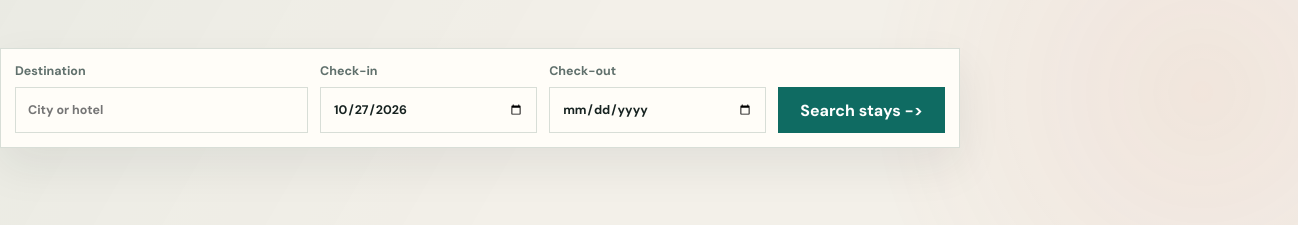
Test: SearchForm › requires destination and check-out
Click the button "Search stays ->". click: coordinates (862, 110)
box: [778,87,945,133]
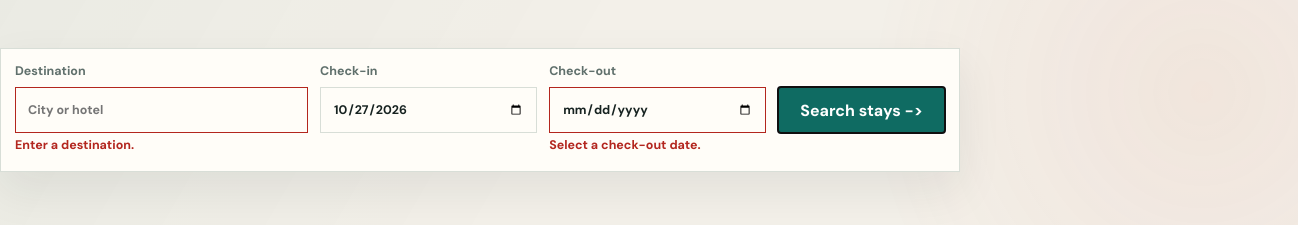
Now the text "Enter a destination." is shown, box [15,137,134,153]
Now the text "Select a check-out date." is shown, box [549,137,701,153]
